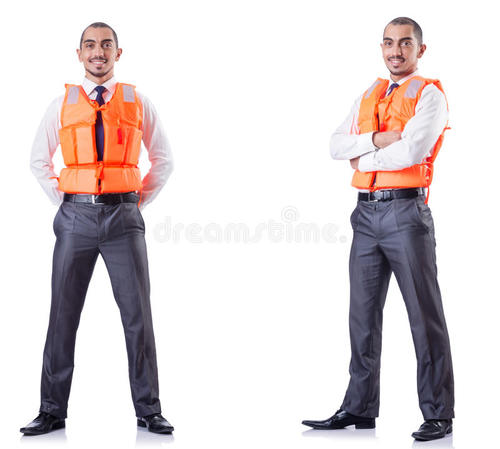reflective_clothes: (53, 67, 148, 221), (346, 59, 444, 208)
